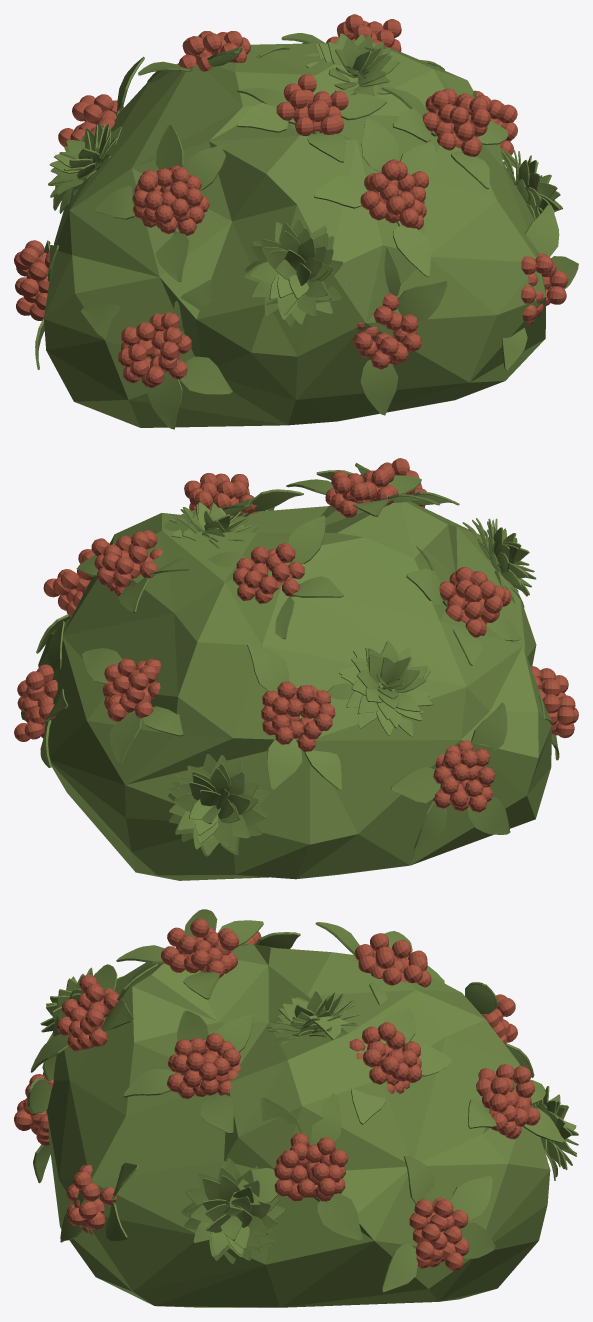
The model's file is N_american_mountain_ash.fbx.
3 views of the same model, one above another, from view 1: azimuth 30°, elevation 25°; view 2: azimuth 150°, elevation 25°; view 3: azimuth 270°, elevation 25° (orthographic). The views are drawn at different scales.
Parts seen in each view (by area): view 1: N_american_mountain_ash; view 2: N_american_mountain_ash; view 3: N_american_mountain_ash.
Boxes of the visible parts, x1,y1,x2,y2 form: N_american_mountain_ash: (14, 14, 578, 429); N_american_mountain_ash: (14, 458, 578, 880); N_american_mountain_ash: (14, 909, 578, 1307).
Bounding box in the file's own units: 3.67 × 2.4 × 3.75.
